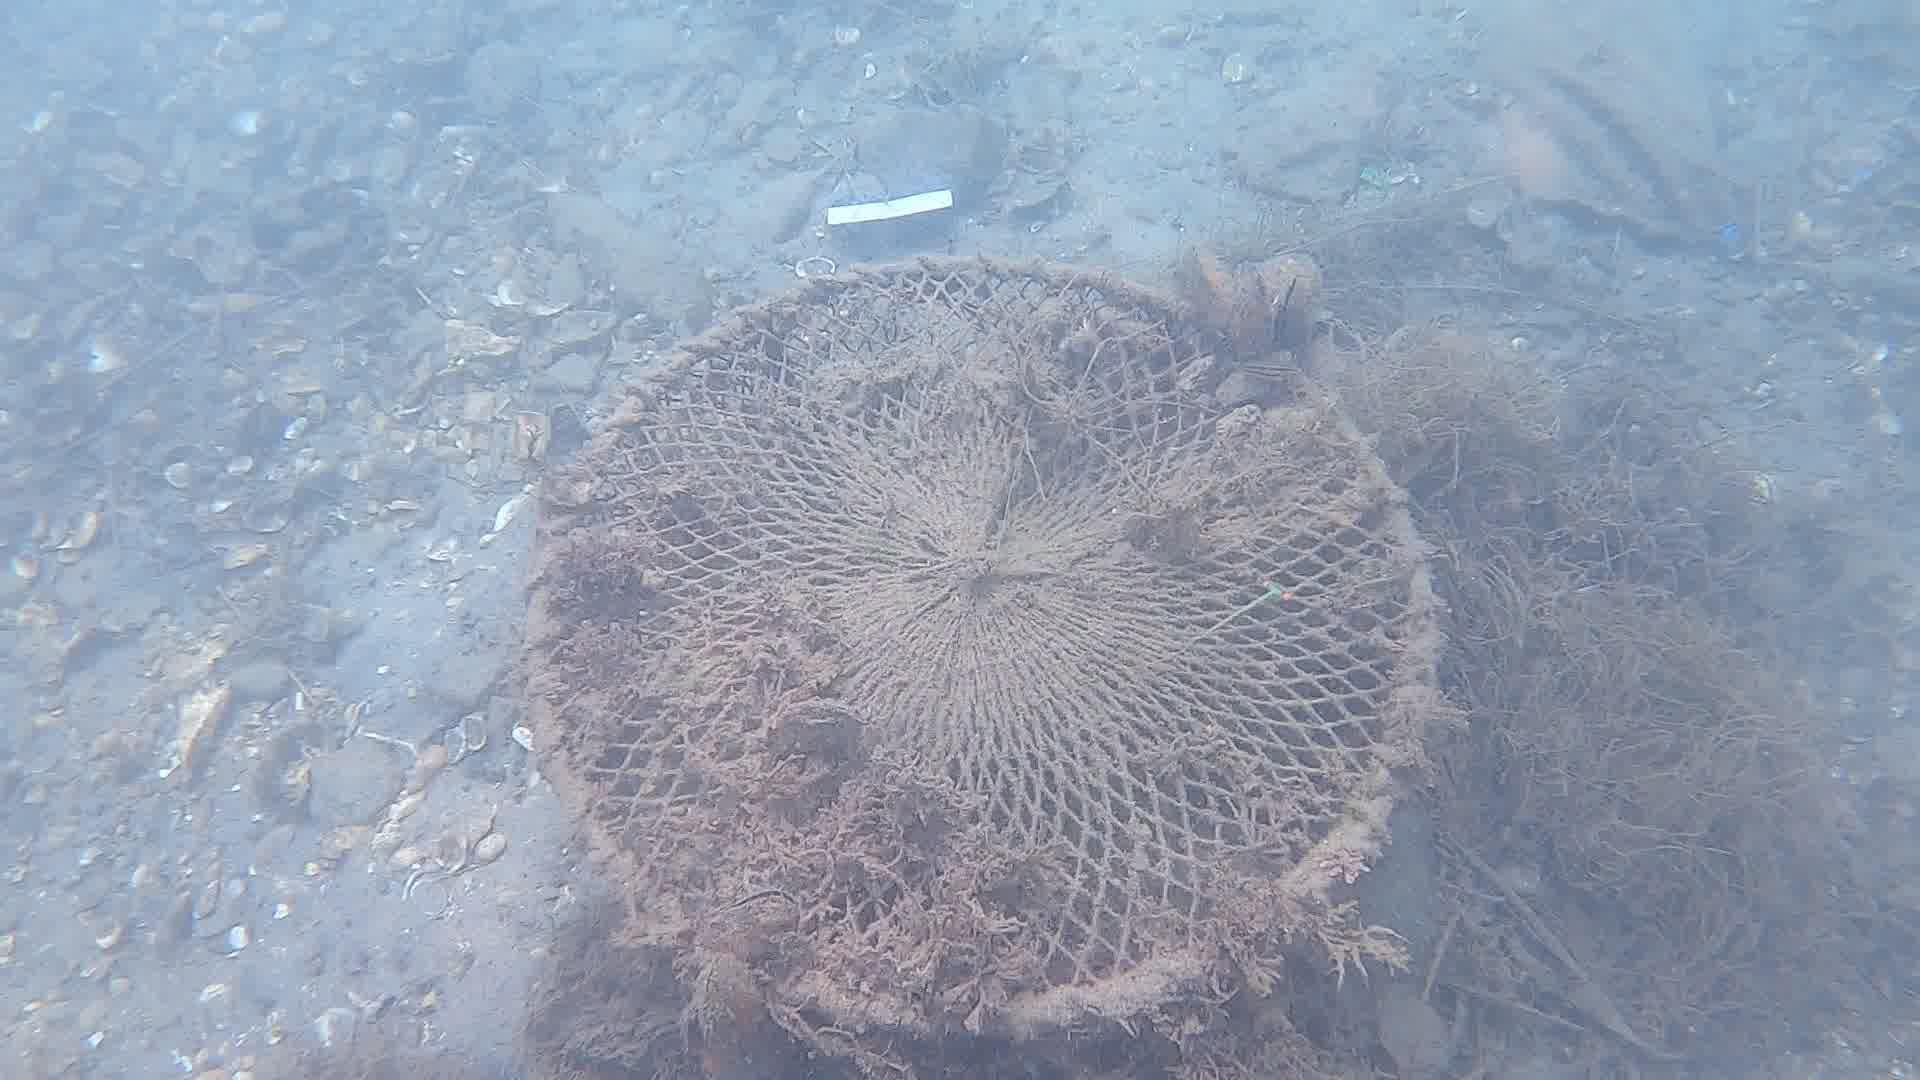circular fish trap: (518, 251, 1443, 1073)
